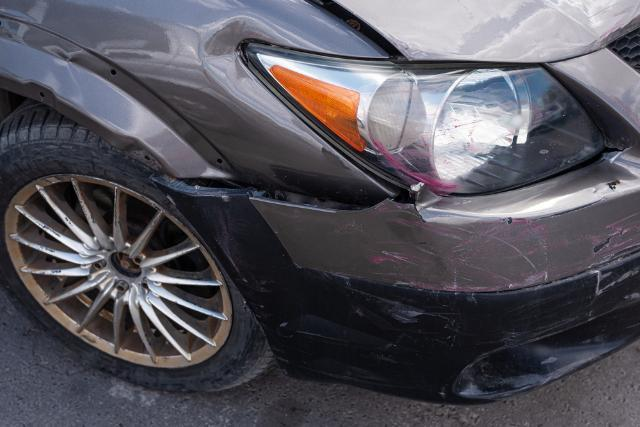crack: (606, 145, 633, 153)
dent: (202, 17, 310, 140)
scratch: (369, 196, 640, 323)
